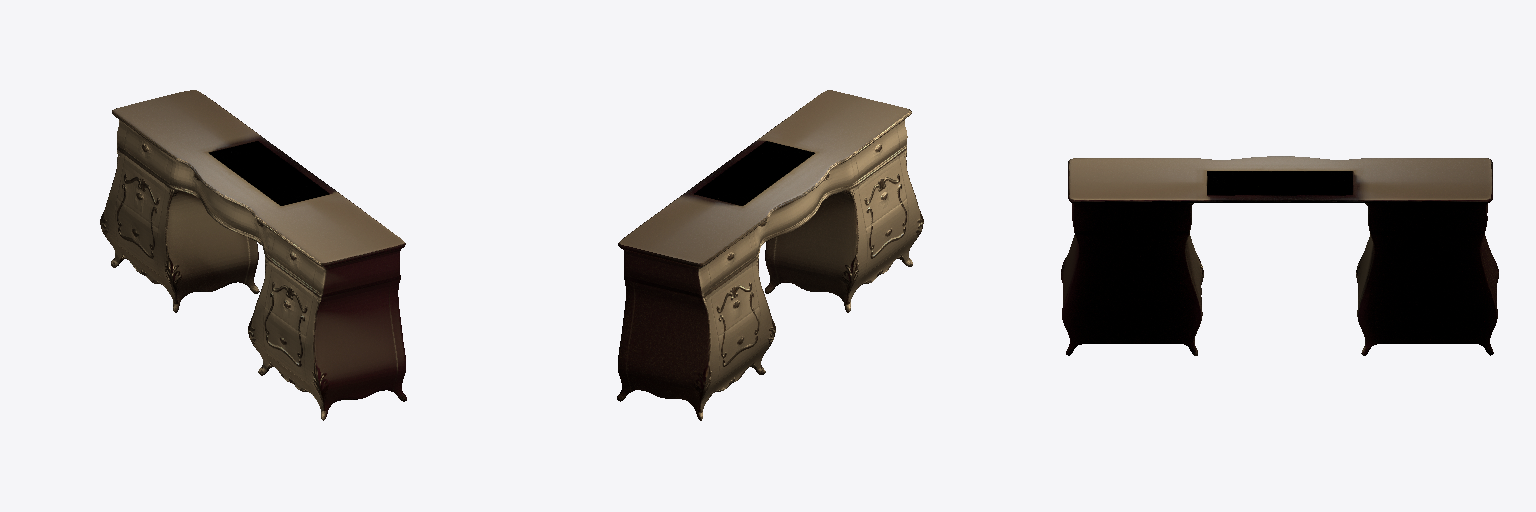
3 views of the same model, side by side, from view 1: azimuth 30°, elevation 25°; view 2: azimuth 150°, elevation 25°; view 3: azimuth 270°, elevation 25° (orthographic).
Visible parts, largest first — view 1: autoUnwrapFaces dressingtableBaked BedroomBakedTriExport; view 2: autoUnwrapFaces dressingtableBaked BedroomBakedTriExport; view 3: autoUnwrapFaces dressingtableBaked BedroomBakedTriExport.
Boxes of the visible parts, x1,y1,x2,y2 form: autoUnwrapFaces dressingtableBaked BedroomBakedTriExport: [100, 90, 406, 420]; autoUnwrapFaces dressingtableBaked BedroomBakedTriExport: [617, 90, 923, 420]; autoUnwrapFaces dressingtableBaked BedroomBakedTriExport: [1061, 156, 1498, 355].
Size of the model in its own units: 0.6202 by 0.9839 by 2.47.
Materials: 1 (1 with a texture image).